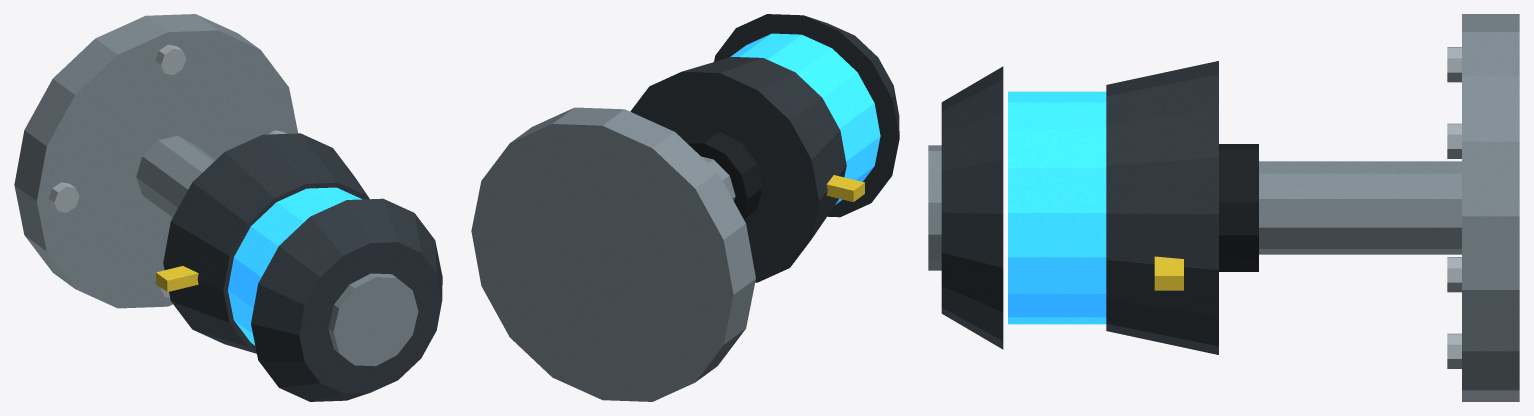
The model's file is PZ_Taxiway_Edge_Blue.glb.
3 views of the same model, side by side, from view 1: azimuth 30°, elevation 25°; view 2: azimuth 150°, elevation 25°; view 3: azimuth 270°, elevation 25° (orthographic). The views are drawn at different scales.
Visible parts, largest first — view 1: PZ_Taxiway_Edge_Blue__Footplate_DieCast, PZ_Taxiway_Edge_Blue__Top_WeatherCap, PZ_Taxiway_Edge_Blue__Optic_LowerHousing, PZ_Taxiway_Edge_Blue__Cap_Crown, PZ_Taxiway_Edge_Blue__Optic_Lens_blue_lens, PZ_Taxiway_Edge_Blue__Frangible_Stem, PZ_Taxiway_Edge_Blue; view 2: PZ_Taxiway_Edge_Blue__Footplate_DieCast, PZ_Taxiway_Edge_Blue__Optic_LowerHousing, PZ_Taxiway_Edge_Blue__Optic_Lens_blue_lens, PZ_Taxiway_Edge_Blue__Top_WeatherCap, PZ_Taxiway_Edge_Blue__Stem_Seal, PZ_Taxiway_Edge_Blue; view 3: PZ_Taxiway_Edge_Blue__Optic_LowerHousing, PZ_Taxiway_Edge_Blue__Optic_Lens_blue_lens, PZ_Taxiway_Edge_Blue__Footplate_DieCast, PZ_Taxiway_Edge_Blue__Frangible_Stem, PZ_Taxiway_Edge_Blue__Top_WeatherCap, PZ_Taxiway_Edge_Blue__Stem_Seal, PZ_Taxiway_Edge_Blue, PZ_Taxiway_Edge_Blue__Cap_Crown.
Part boxes in pixels (x1,y1,x2,y2): PZ_Taxiway_Edge_Blue__Footplate_DieCast: (14,14,297,308); PZ_Taxiway_Edge_Blue__Top_WeatherCap: (251,198,442,401); PZ_Taxiway_Edge_Blue__Optic_LowerHousing: (163,133,369,353); PZ_Taxiway_Edge_Blue__Cap_Crown: (328,273,418,366); PZ_Taxiway_Edge_Blue__Optic_Lens_blue_lens: (228,187,361,345); PZ_Taxiway_Edge_Blue__Frangible_Stem: (136,135,215,217); PZ_Taxiway_Edge_Blue: (48,44,285,297); PZ_Taxiway_Edge_Blue__Footplate_DieCast: (471,107,755,401); PZ_Taxiway_Edge_Blue__Optic_LowerHousing: (630,57,846,282); PZ_Taxiway_Edge_Blue__Optic_Lens_blue_lens: (730,33,880,204); PZ_Taxiway_Edge_Blue__Top_WeatherCap: (714,14,899,217); PZ_Taxiway_Edge_Blue__Stem_Seal: (685,131,762,219); PZ_Taxiway_Edge_Blue: (826,175,864,201); PZ_Taxiway_Edge_Blue__Optic_LowerHousing: (1106,61,1218,354); PZ_Taxiway_Edge_Blue__Optic_Lens_blue_lens: (1008,91,1106,324); PZ_Taxiway_Edge_Blue__Footplate_DieCast: (1462,14,1519,401); PZ_Taxiway_Edge_Blue__Frangible_Stem: (1259,161,1461,254); PZ_Taxiway_Edge_Blue__Top_WeatherCap: (941,66,1003,349); PZ_Taxiway_Edge_Blue__Stem_Seal: (1219,144,1258,271); PZ_Taxiway_Edge_Blue: (1154,47,1461,368); PZ_Taxiway_Edge_Blue__Cap_Crown: (928,145,941,270).
Size of the model in its own units: 0.29 by 0.29 by 0.4415.
Materials: 2 (2 with a texture image).
